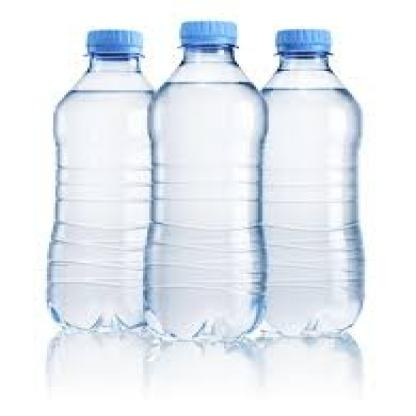trash: (146, 21, 265, 337), (257, 29, 363, 334), (48, 30, 152, 328)
